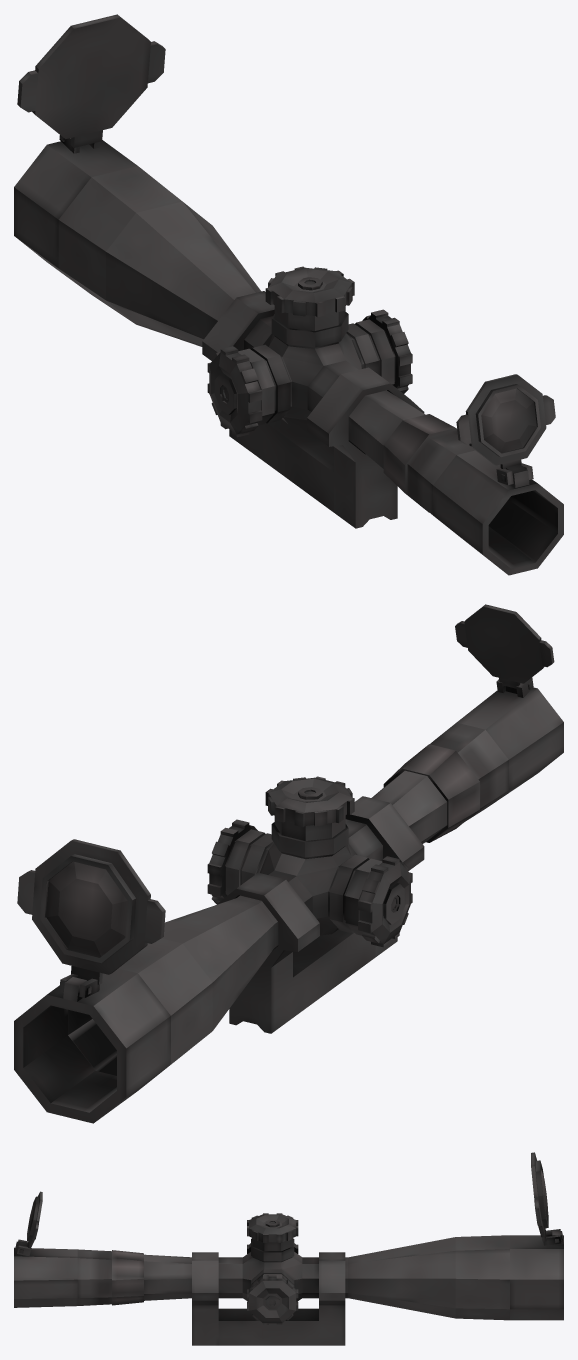
Rendered from x16_zoom_scope.glb.
3 renders of one model, top to bottom at view 1: azimuth 30°, elevation 25°; view 2: azimuth 150°, elevation 25°; view 3: azimuth 270°, elevation 25°, orthographic. The views are drawn at different scales.
Parts seen in each view (by area): view 1: x16_zoom_scope; view 2: x16_zoom_scope; view 3: x16_zoom_scope.
Boxes of the visible parts, <box> form: x16_zoom_scope: <box>14,14,563,575</box>; x16_zoom_scope: <box>14,604,563,1123</box>; x16_zoom_scope: <box>14,1152,563,1345</box>.
Bounding box in the file's own units: 0.0763 × 0.1261 × 0.3492.
Materials: 1 (1 with a texture image).
